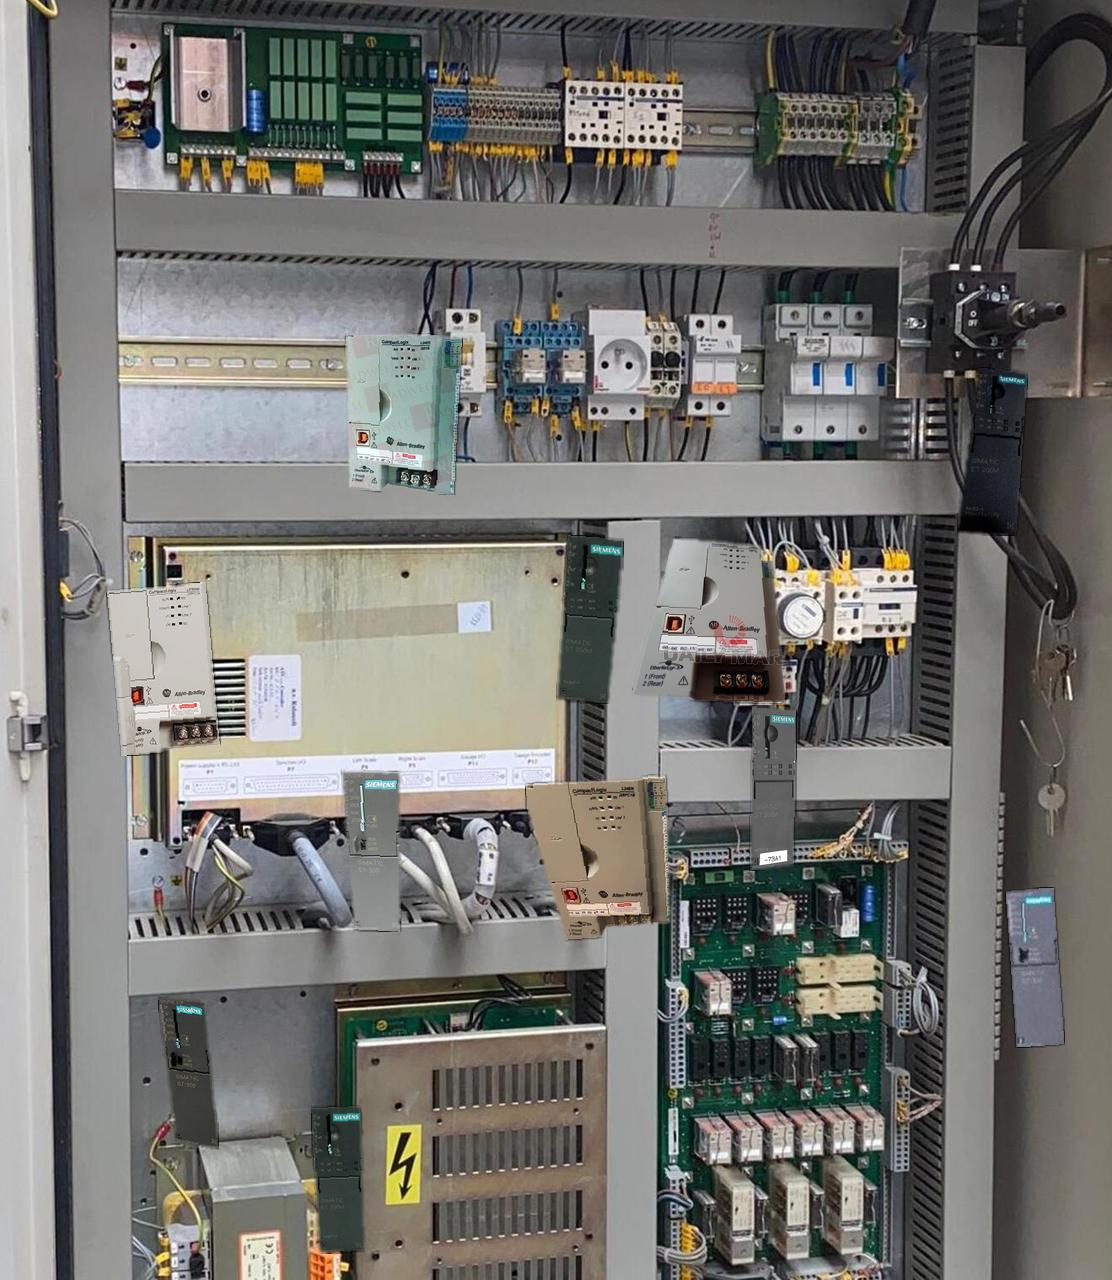AllenBradley: (632, 538, 784, 702), (526, 776, 669, 939), (107, 582, 219, 755), (346, 334, 461, 494)
Siemens: (342, 771, 399, 930), (1006, 888, 1063, 1046), (158, 998, 218, 1147)
